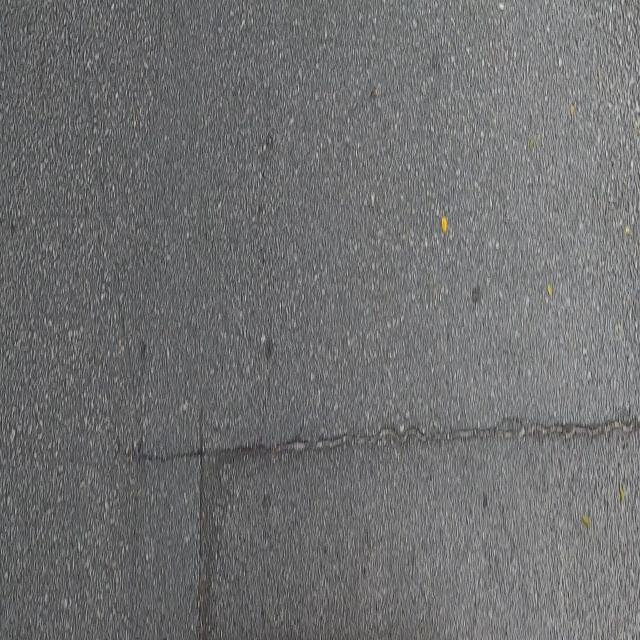Retak-Melintang: (111, 411, 640, 474)
Retak-Memanjang: (194, 391, 209, 640)
